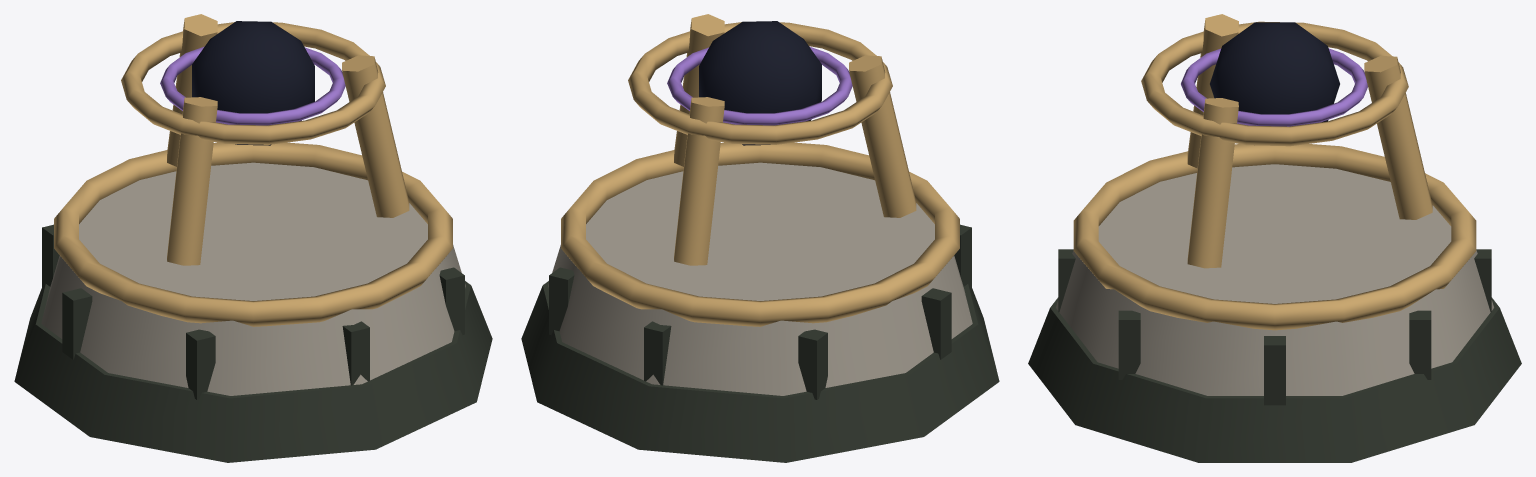
File: tower_gravity.glb
The picture shows the model from 3 angles, left to right: view 1: azimuth 30°, elevation 25°; view 2: azimuth 150°, elevation 25°; view 3: azimuth 270°, elevation 25°; orthographic projection.
Parts seen in each view (by area): view 1: stone_1, foot_0, rim_2, black_hole_11, orbit_16, claw_14, claw_13, accretion_15, claw_12, mortar_6, mortar_7, mortar_5 (+2 smaller); view 2: stone_1, foot_0, rim_2, black_hole_11, orbit_16, claw_12, claw_14, accretion_15, claw_13, mortar_8, mortar_7, mortar_9 (+2 smaller); view 3: stone_1, foot_0, rim_2, black_hole_11, orbit_16, claw_13, claw_12, accretion_15, claw_14, mortar_3, mortar_4, mortar_10 (+2 smaller).
Part boxes in pixels (x1=…): stone_1: x1=41, y1=162, x2=465, y2=395; foot_0: x1=14, y1=281, x2=492, y2=462; rim_2: x1=54, y1=142, x2=452, y2=326; black_hole_11: x1=192, y1=21, x2=314, y2=145; orbit_16: x1=121, y1=22, x2=385, y2=144; claw_14: x1=167, y1=97, x2=217, y2=265; claw_13: x1=342, y1=55, x2=409, y2=217; accretion_15: x1=160, y1=46, x2=345, y2=125; claw_12: x1=167, y1=14, x2=217, y2=166; mortar_6: x1=186, y1=329, x2=215, y2=399; mortar_7: x1=62, y1=288, x2=92, y2=359; mortar_5: x1=342, y1=321, x2=369, y2=385; stone_1: x1=548, y1=162, x2=972, y2=395; foot_0: x1=521, y1=281, x2=999, y2=462; rim_2: x1=561, y1=142, x2=959, y2=326; black_hole_11: x1=699, y1=21, x2=821, y2=145; orbit_16: x1=628, y1=22, x2=892, y2=144; claw_12: x1=674, y1=97, x2=724, y2=265; claw_14: x1=849, y1=55, x2=916, y2=217; accretion_15: x1=667, y1=46, x2=852, y2=125; claw_13: x1=674, y1=14, x2=724, y2=166; mortar_8: x1=798, y1=329, x2=827, y2=399; mortar_7: x1=921, y1=288, x2=951, y2=359; mortar_9: x1=644, y1=321, x2=671, y2=385; stone_1: x1=1056, y1=164, x2=1493, y2=395; foot_0: x1=1028, y1=297, x2=1521, y2=462; rim_2: x1=1073, y1=144, x2=1476, y2=330; black_hole_11: x1=1210, y1=22, x2=1339, y2=122; orbit_16: x1=1141, y1=21, x2=1408, y2=146; claw_13: x1=1187, y1=98, x2=1238, y2=268; claw_12: x1=1364, y1=56, x2=1432, y2=219; accretion_15: x1=1181, y1=48, x2=1367, y2=126; claw_14: x1=1187, y1=14, x2=1238, y2=168; mortar_3: x1=1264, y1=336, x2=1285, y2=405; mortar_4: x1=1118, y1=310, x2=1140, y2=379; mortar_10: x1=1409, y1=310, x2=1431, y2=379.
Size of the model in its own units: 0.5326 by 0.424 by 0.56.
